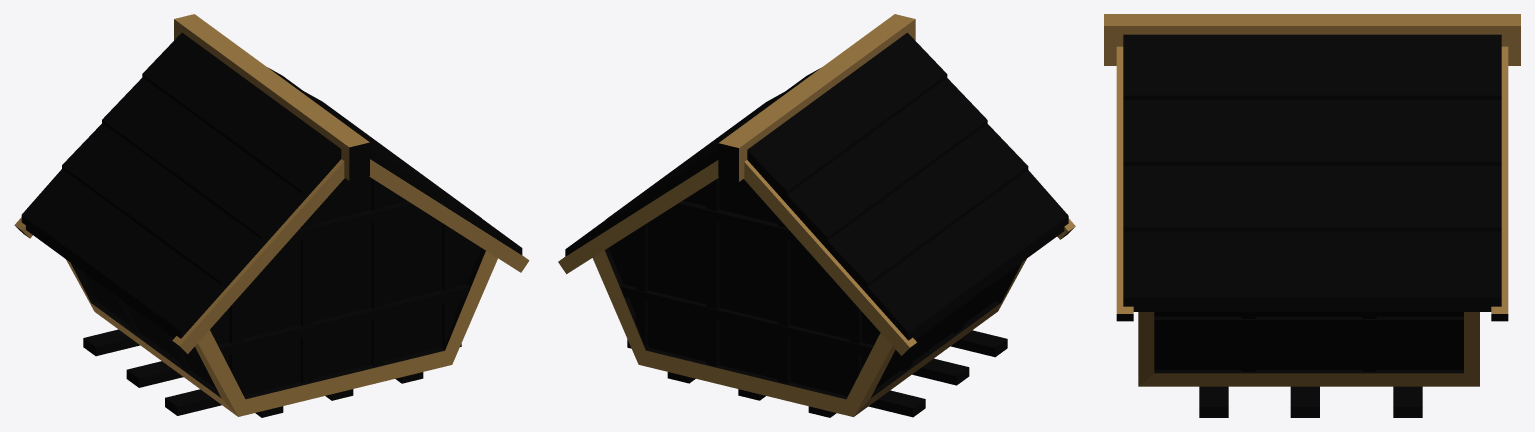
The model's file is HouseAdd_RoofRoom.gltf.
3 views of the same model, side by side, from view 1: azimuth 30°, elevation 25°; view 2: azimuth 150°, elevation 25°; view 3: azimuth 270°, elevation 25° (orthographic). The views are drawn at different scales.
Parts seen in each view (by area): view 1: SF_Bld_HouseAdd_RoofRoom_01; view 2: SF_Bld_HouseAdd_RoofRoom_01; view 3: SF_Bld_HouseAdd_RoofRoom_01.
Part boxes in pixels (x1,y1,x2,y2): SF_Bld_HouseAdd_RoofRoom_01: (14, 14, 529, 417); SF_Bld_HouseAdd_RoofRoom_01: (558, 14, 1075, 417); SF_Bld_HouseAdd_RoofRoom_01: (1104, 14, 1520, 417).
Size of the model in its own units: 0.089 by 0.0645 by 0.0772.
Materials: 1 (1 with a texture image).
